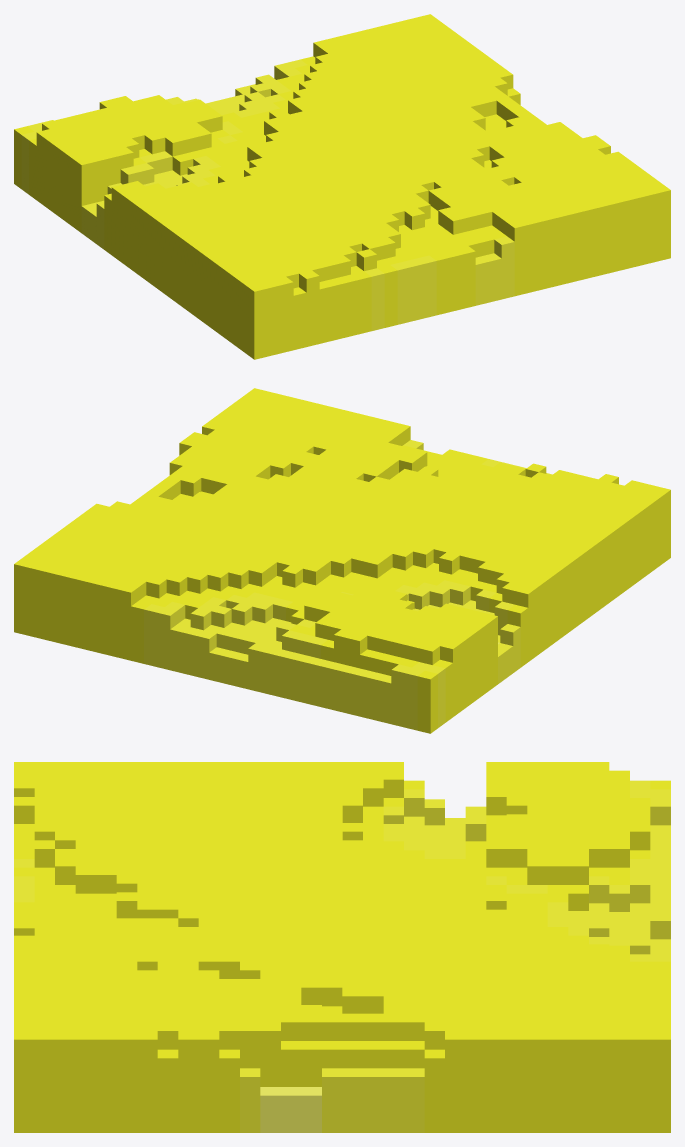
The model's file is Destert Map-19.obj.
3 views of the same model, one above another, from view 1: azimuth 30°, elevation 25°; view 2: azimuth 150°, elevation 25°; view 3: azimuth 270°, elevation 25° (orthographic). The views are drawn at different scales.
Bounding box in the file's own units: 3.2 × 0.5 × 3.2.
Materials: 1 (1 with a texture image).
